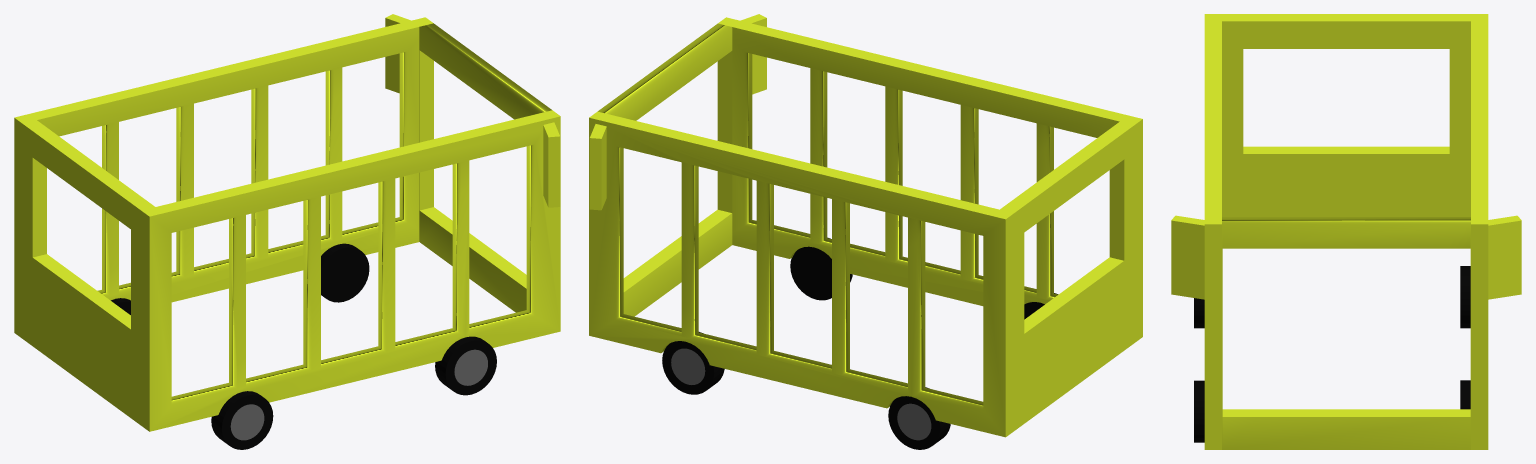
3 views of the same model, side by side, from view 1: azimuth 30°, elevation 25°; view 2: azimuth 150°, elevation 25°; view 3: azimuth 270°, elevation 25° (orthographic). The views are drawn at different scales.
Visible parts, largest first — view 1: RightWall, LeftWall, FrontWall, BackWall, Wheel1.002, Wheel1.001, Wheel1.003; view 2: LeftWall, RightWall, FrontWall, BackWall, Wheel1, Wheel1.003, Wheel1.002; view 3: FrontWall, BackWall, LeftWall, RightWall, Wheel1, Wheel1.002.
Boxes of the visible parts, x1,y1,x2,y2 form: RightWall: (141,110,560,431); LeftWall: (14,14,433,338); FrontWall: (22,120,154,425); BackWall: (419,23,551,312); Wheel1.002: (435,336,496,395); Wheel1.001: (211,391,273,449); Wheel1.003: (321,243,369,302); LeftWall: (589,111,1014,437); RightWall: (718,14,1142,342); FrontWall: (1000,121,1134,430); BackWall: (598,23,732,316); Wheel1: (888,387,950,449); Wheel1.003: (662,332,724,394); Wheel1.002: (790,237,852,300); FrontWall: (1222,14,1470,216); BackWall: (1222,217,1470,449); LeftWall: (1471,14,1521,449); RightWall: (1171,14,1221,449); Wheel1: (1460,266,1470,328); Wheel1.002: (1194,380,1204,442).
Size of the model in its own units: 400 by 234 by 282.
